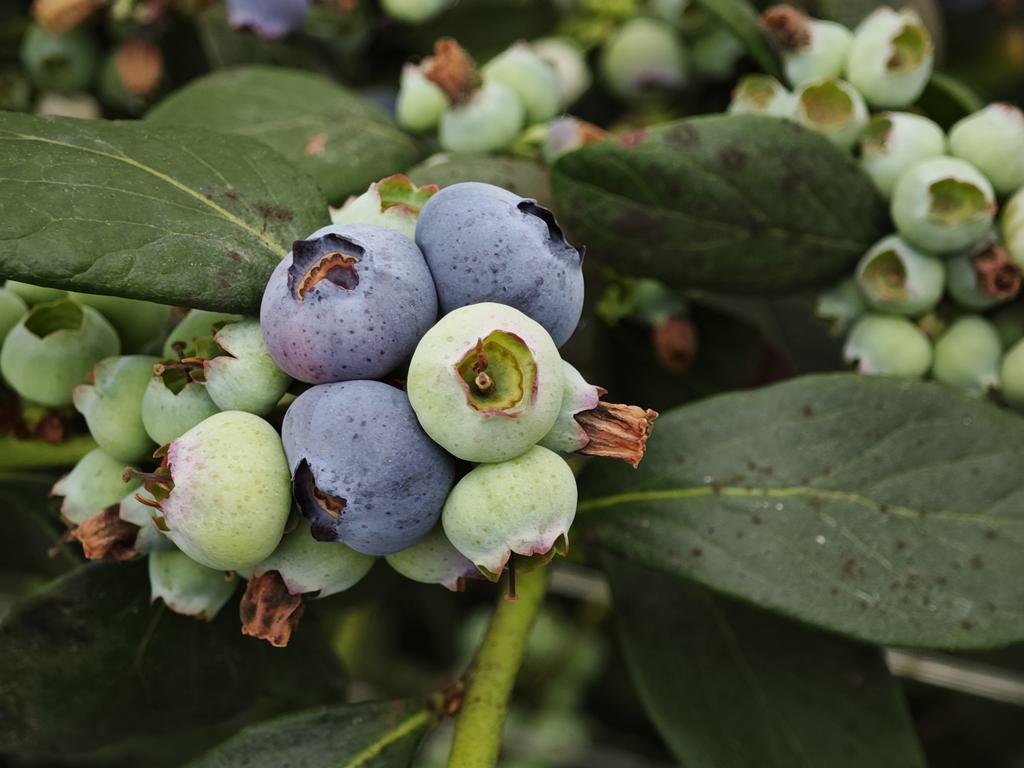RipeBlueBerry: (280, 377, 448, 559), (259, 219, 442, 381), (415, 179, 589, 348)
UnripeBlueBerry: (405, 298, 567, 468), (149, 407, 297, 577)
